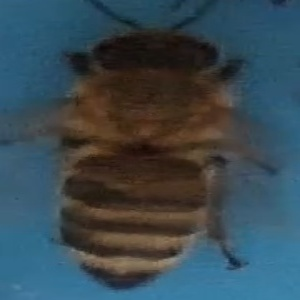bee: (5, 15, 287, 288)
